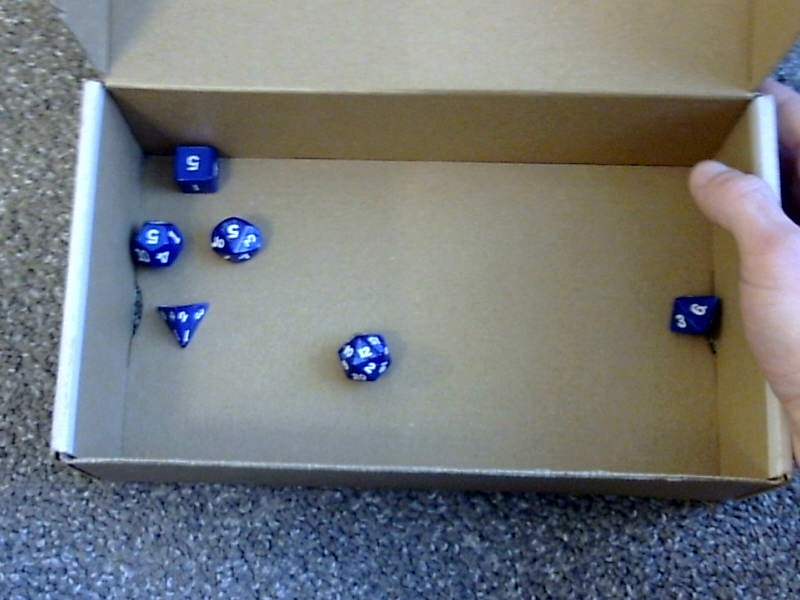d10 5: (203, 212, 263, 265)
d12 5: (125, 215, 185, 271)
d20 12: (332, 325, 396, 385)
d4 2: (148, 296, 211, 351)
d6 5: (169, 138, 224, 198)
d8 6: (663, 286, 724, 340)
